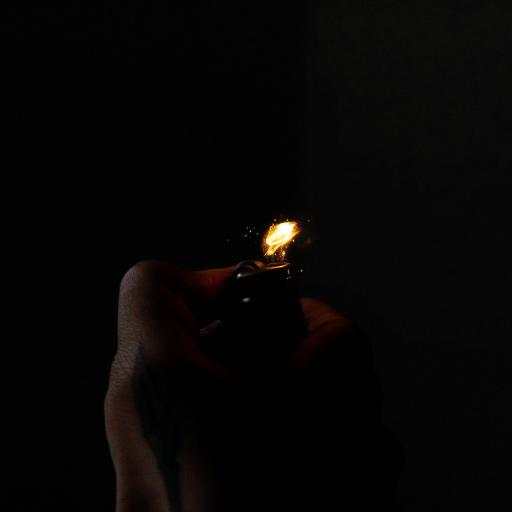lighter: (210, 190, 314, 360)
